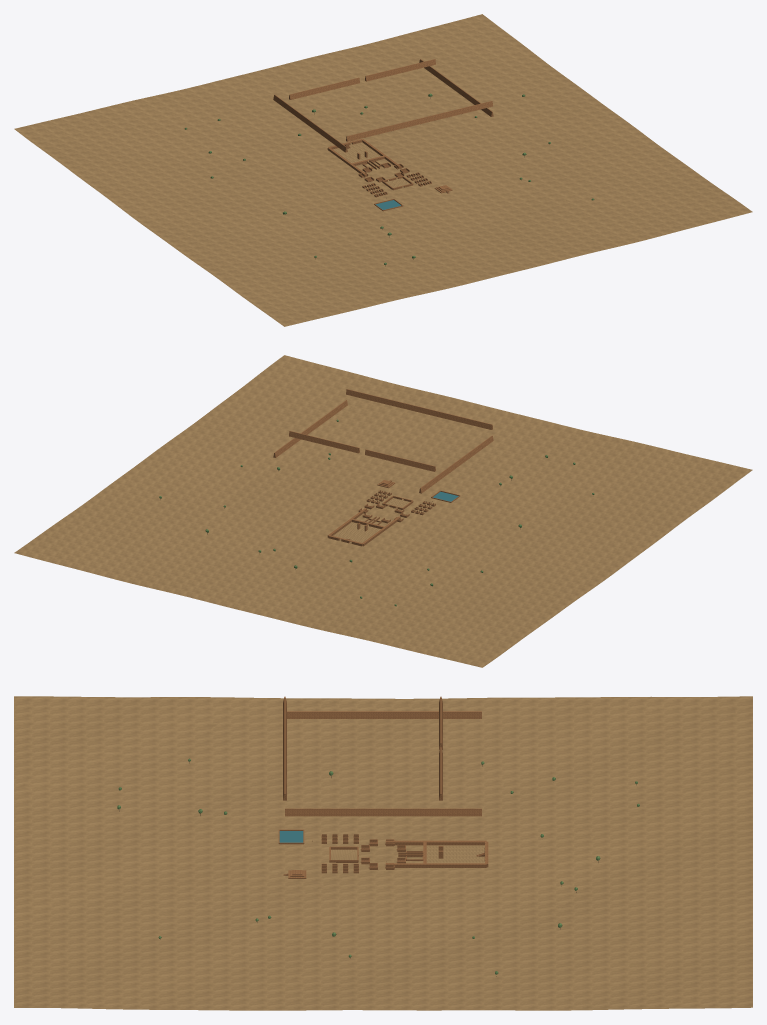
3 renders of one model, top to bottom at view 1: azimuth 30°, elevation 25°; view 2: azimuth 150°, elevation 25°; view 3: azimuth 270°, elevation 25°, orthographic. The views are drawn at different scales.
Visible parts, largest first — view 1: GEO-ChanChan_LOD1_Terrain, GEO-ChanChan_LOD1_City; view 2: GEO-ChanChan_LOD1_Terrain, GEO-ChanChan_LOD1_City; view 3: GEO-ChanChan_LOD1_Terrain, GEO-ChanChan_LOD1_City, GEO-ChanChan_LOD1_Props.
Boxes of the visible parts, left/top/right/bottom form: GEO-ChanChan_LOD1_Terrain: left=14, top=14, right=752, bottom=326; GEO-ChanChan_LOD1_City: left=273, top=59, right=493, bottom=211; GEO-ChanChan_LOD1_Terrain: left=14, top=355, right=752, bottom=667; GEO-ChanChan_LOD1_City: left=273, top=389, right=493, bottom=546; GEO-ChanChan_LOD1_Terrain: left=14, top=696, right=752, bottom=1010; GEO-ChanChan_LOD1_City: left=278, top=696, right=488, bottom=878; GEO-ChanChan_LOD1_Props: left=117, top=758, right=639, bottom=976.
Bounding box in the file's own units: 900 × 151 × 900.
8 materials, 4 textured.
